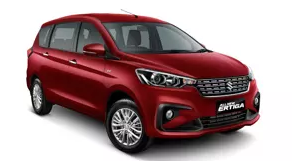car: (22, 8, 263, 155)
